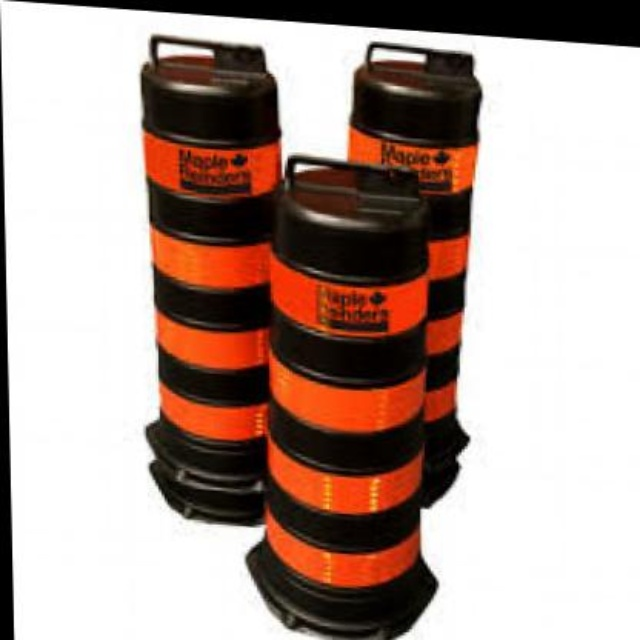obstacle: (269, 155, 411, 638)
